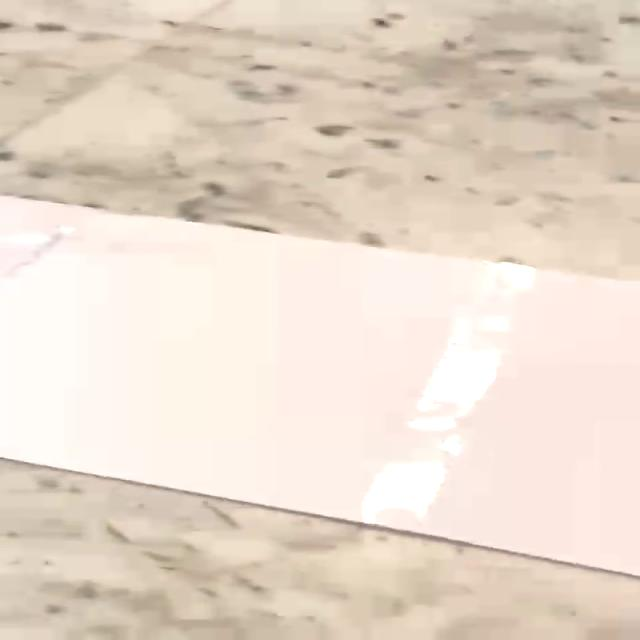road: (0, 197, 637, 574)
